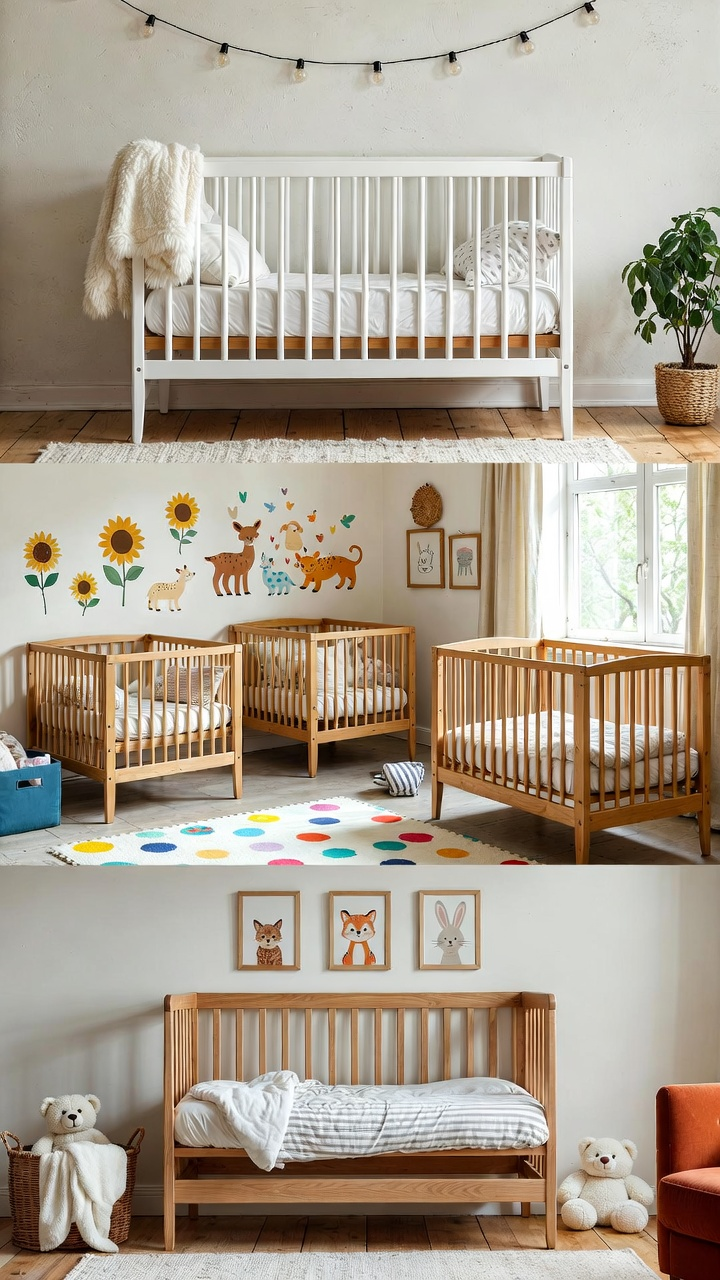crib: (133, 155, 572, 441), (163, 990, 556, 1250), (432, 638, 709, 862), (27, 635, 241, 822), (229, 618, 415, 776)
